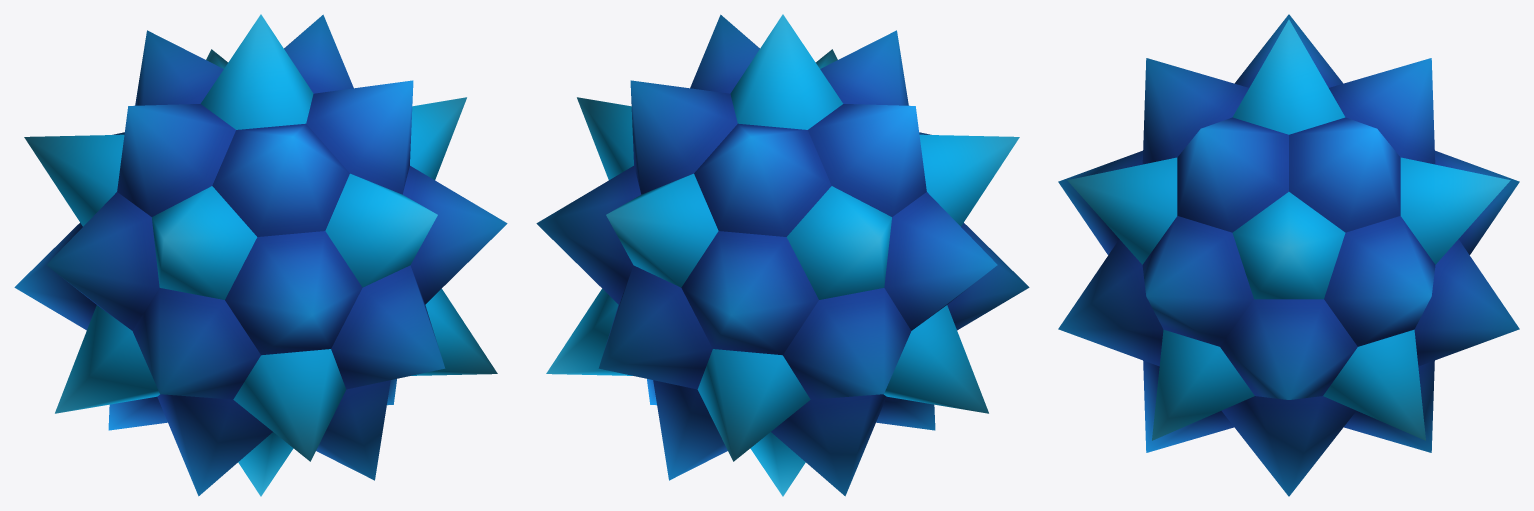
The model's file is Artifact_02.fbx.
3 views of the same model, side by side, from view 1: azimuth 30°, elevation 25°; view 2: azimuth 150°, elevation 25°; view 3: azimuth 270°, elevation 25° (orthographic). The views are drawn at different scales.
Visible parts, largest first — view 1: Artifact_02; view 2: Artifact_02; view 3: Artifact_02.
Boxes of the visible parts, <box> form: Artifact_02: <box>14,14,507,496</box>; Artifact_02: <box>536,14,1029,496</box>; Artifact_02: <box>1058,14,1519,496</box>.
Bounding box in the file's own units: 110 × 104 × 118.
